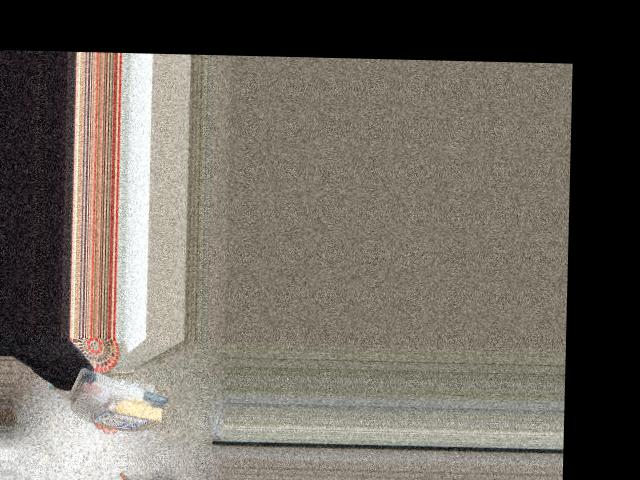cheese: (70, 360, 171, 432)
